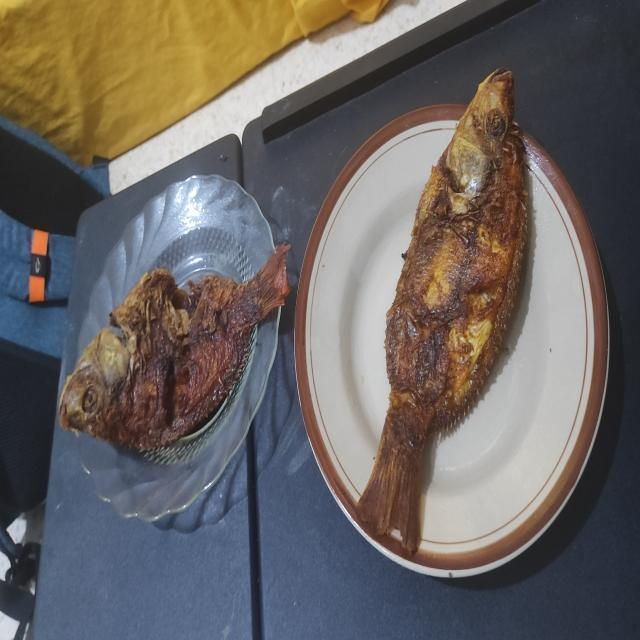ikan_mujair: (358, 69, 528, 554), (58, 243, 290, 452)
